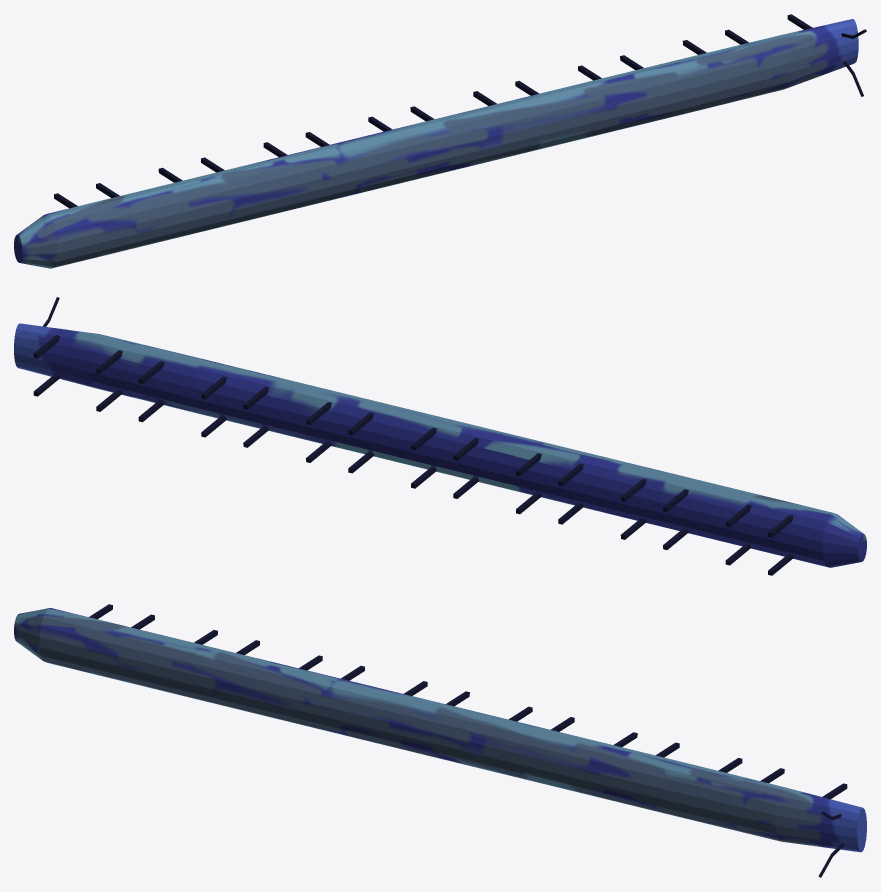
Rendered from Piet.gltf.
The picture shows the model from 3 angles, top to bottom: view 1: azimuth 30°, elevation 25°; view 2: azimuth 150°, elevation 25°; view 3: azimuth 330°, elevation 25°; orthographic projection.
Visible parts, largest first — view 1: Cylinder; view 2: Cylinder; view 3: Cylinder.
Part boxes in pixels (x1,y1,x2,y2): Cylinder: [14, 14, 866, 268]; Cylinder: [14, 297, 866, 575]; Cylinder: [14, 604, 866, 877].
Bounding box in the file's own units: 0.961 × 0.0729 × 0.0988.
Materials: 1 (1 with a texture image).
